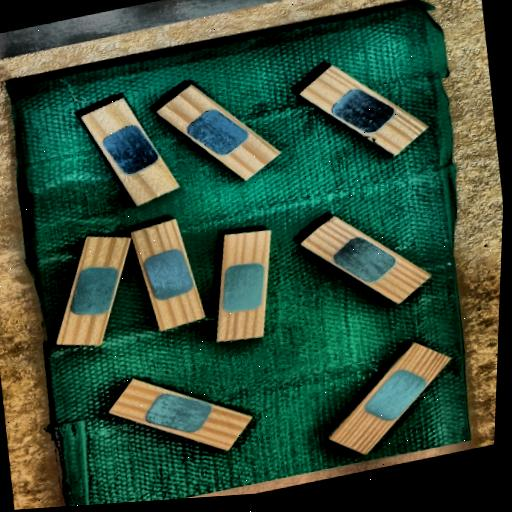objects: (328, 332, 452, 464), (155, 78, 282, 188), (298, 59, 429, 163), (300, 209, 432, 312), (81, 92, 179, 211), (109, 375, 252, 455), (55, 226, 131, 357), (130, 218, 206, 332), (216, 227, 272, 345)
